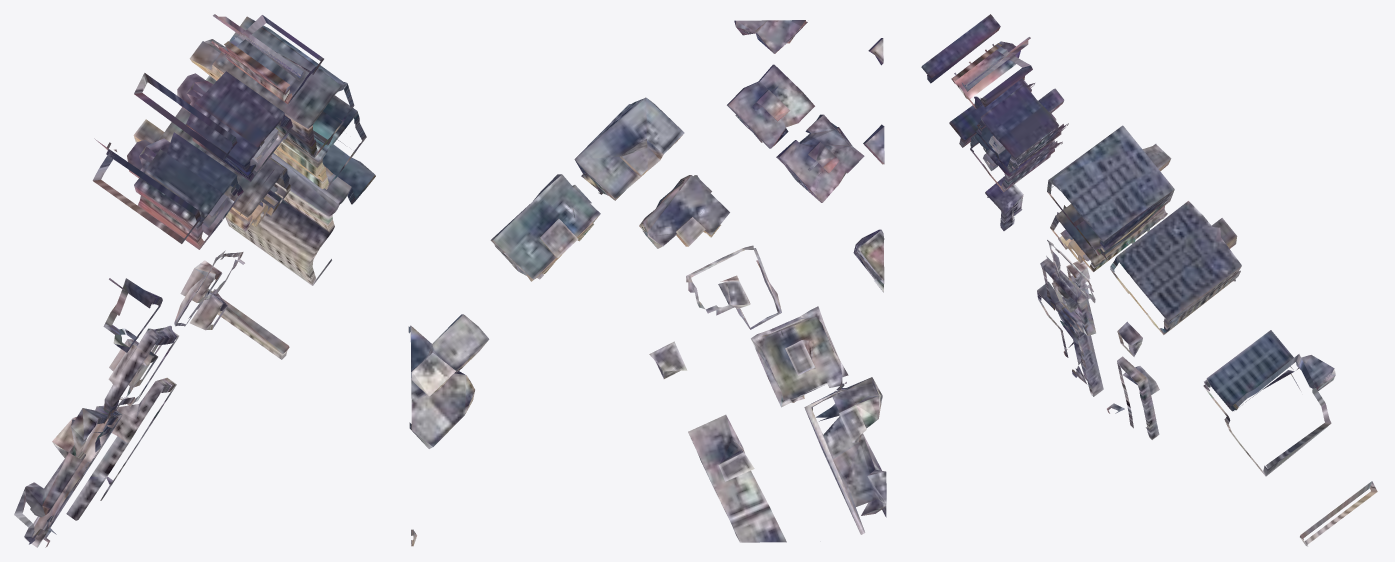
The picture shows the model from 3 angles, left to right: view 1: azimuth 30°, elevation 25°; view 2: azimuth 150°, elevation 25°; view 3: azimuth 270°, elevation 25°; orthographic projection. The views are drawn at different scales.
Size of the model in its own units: 134 by 151 by 150.
Materials: 1 (1 with a texture image).
